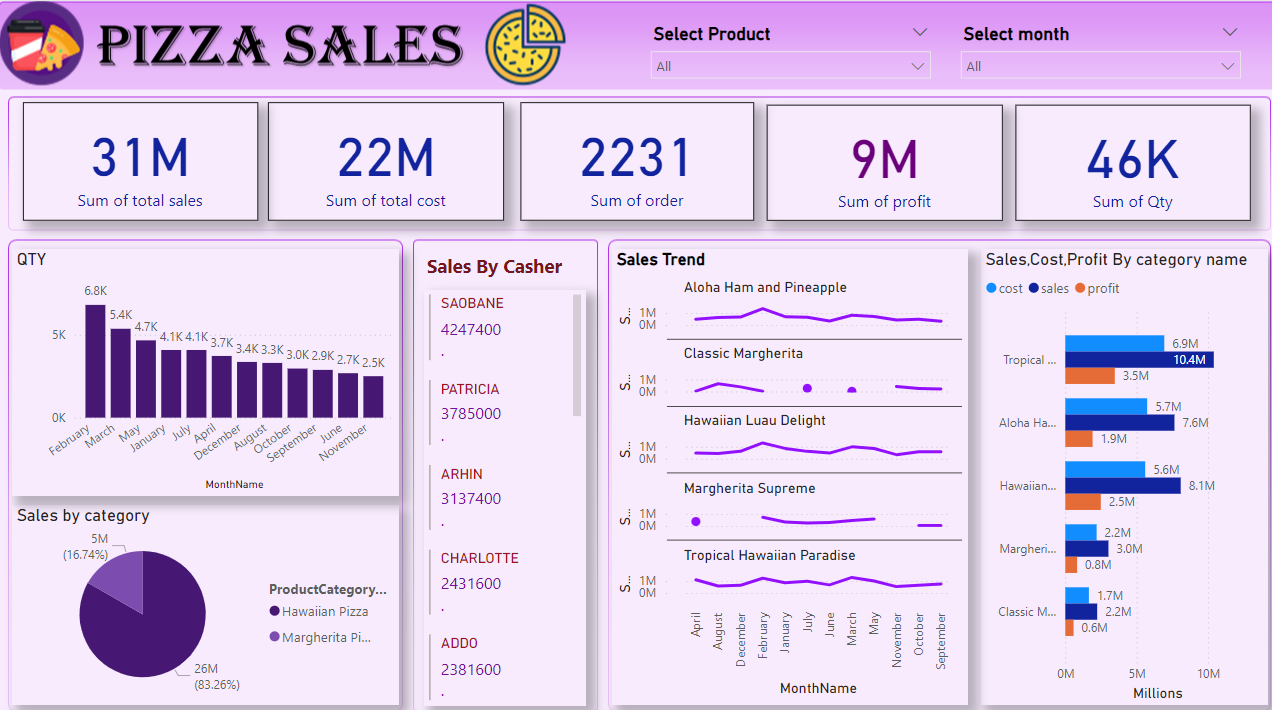

Layout of this report page (visuals, bound fields, positions):
{"tool":"powerbi","page":{"name":"pizza sales dashbord","canvas":[1280,720],"ordinal":0},"visuals":[{"type":"card","fields":{"Values":["Sales.total sales"]},"box":[25,101.2,235,118.8],"z":0},{"type":"card","fields":{"Values":["Sales.total cost"]},"box":[270,101.2,236.2,118.8],"z":1000},{"type":"card","title":"     ","fields":{"Values":["Sales.order"]},"box":[522.5,101.2,233.8,118.8],"z":2000},{"type":"card","fields":{"Values":["Sales.profit"]},"box":[768.8,103.8,236.2,116.2],"z":3000},{"type":"card","fields":{"Values":["Sales.Qty"]},"box":[1017.5,103.8,235,116.2],"z":4000},{"type":"columnChart","title":"QTY","fields":{"Y":["Sales.Qty"],"Category":["Sales.MonthName"]},"box":[14.3,247.1,387.1,247.1],"z":5000},{"type":"pieChart","title":"Sales by category","fields":{"Y":["Sales.total sales"],"Series":["Sales.ProductCategoryName"]},"box":[14.3,504.3,387.1,200],"z":6000},{"type":"multiRowCard","fields":{"Values":["Sales.total sales","Sales.UserName"]},"box":[425.7,288.6,161.4,415.7],"z":7000},{"type":"textbox","box":[424.3,247.1,161.4,48.6],"z":8000},{"type":"lineChart","title":"Sales Trend ","fields":{"Y":["Sales.total sales"],"Rows":["Sales.ProductName"],"Category":["Sales.MonthName"]},"box":[614.3,247.1,355.7,457.1],"z":9000},{"type":"clusteredBarChart","title":"Sales,Cost,Profit By category name ","fields":{"Y":["Sales.total cost","Sales.total sales","Sales.profit"],"Category":["Sales.ProductName"]},"box":[982.9,247.1,287.1,457.1],"z":10000},{"type":"slicer","fields":{"Values":["Sales.ProductCategoryName","Sales.ProductName"]},"box":[642.9,17.1,300,62.9],"z":11000},{"type":"slicer","fields":{"Values":["Sales.MonthName"]},"box":[952.9,17.1,300,62.9],"z":12000}]}

Visuals, with their boxes in screenshot pixels (x1, y1, x2, y2), scaled from the page's 1280x720 canvas onto the 1272x710 screenshot:
card - Sales.total sales: 25, 100, 258, 217
card - Sales.total cost: 268, 100, 503, 217
"     " card: 519, 100, 752, 217
card - Sales.profit: 764, 102, 999, 217
card - Sales.Qty: 1011, 102, 1245, 217
"QTY" columnChart: 14, 244, 399, 487
"Sales by category" pieChart: 14, 497, 399, 695
multiRowCard - Sales.total sales x Sales.UserName: 423, 285, 583, 695
textbox: 422, 244, 582, 292
"Sales Trend " lineChart: 610, 244, 964, 694
"Sales,Cost,Profit By category name " clusteredBarChart: 977, 244, 1262, 694
slicer - Sales.ProductCategoryName x Sales.ProductName: 639, 17, 937, 79
slicer - Sales.MonthName: 947, 17, 1245, 79
